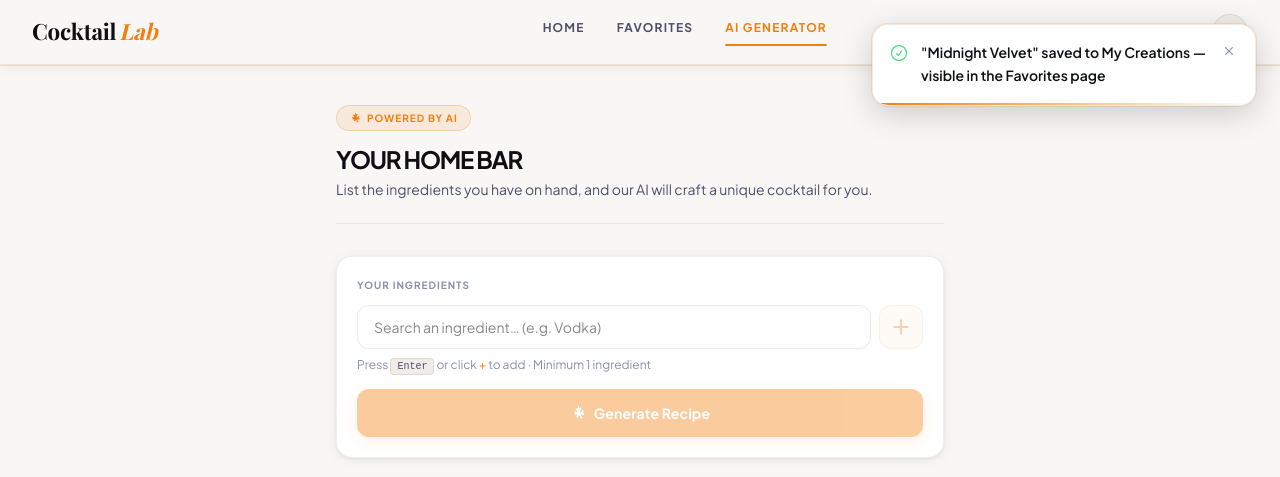
GenerateAI view › shows autocomplete suggestions while typing
Type "Vo" into the field with placeholder "Search an ingredient… (e.g. Vodka)" at (614, 327), box [357,305,871,349]
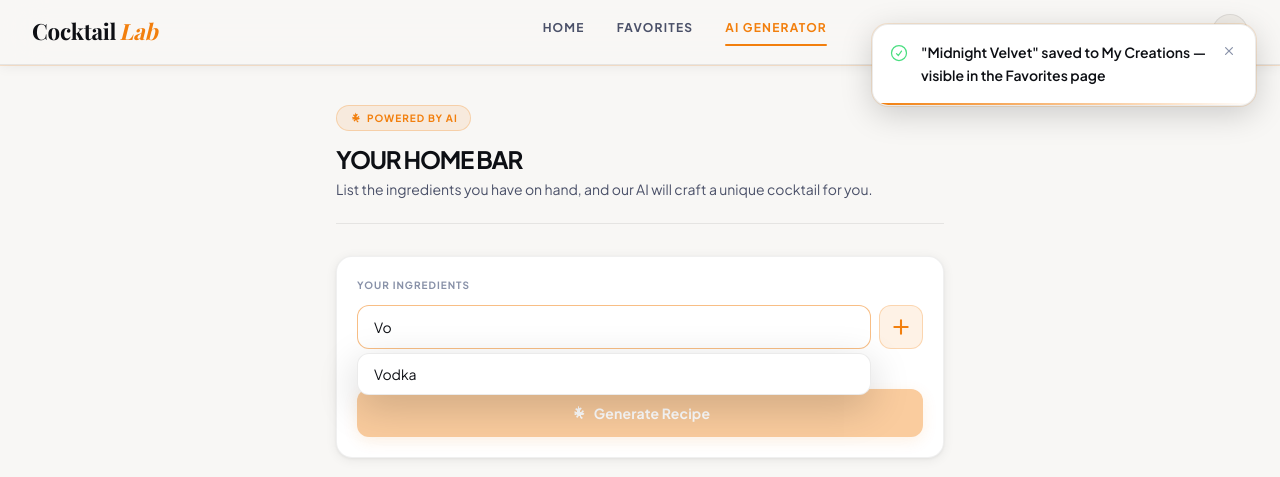
Result: the list named "ingredient suggestions" is shown at [357,353,871,395]
Result: the option "Vodka" is shown at [374,365,417,383]
